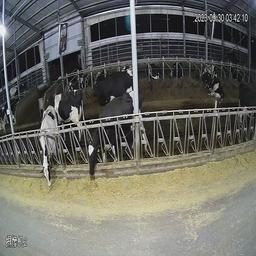cow: (88, 90, 134, 188), (37, 103, 59, 193), (82, 60, 127, 97), (45, 90, 83, 128), (200, 61, 226, 103), (238, 85, 255, 141), (168, 54, 185, 85), (147, 59, 162, 85)
